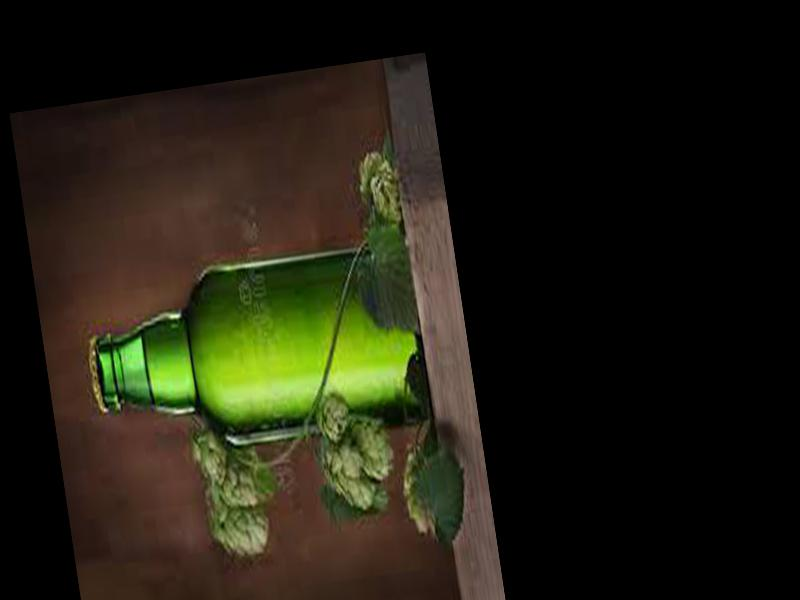Beer: (76, 236, 438, 461)
